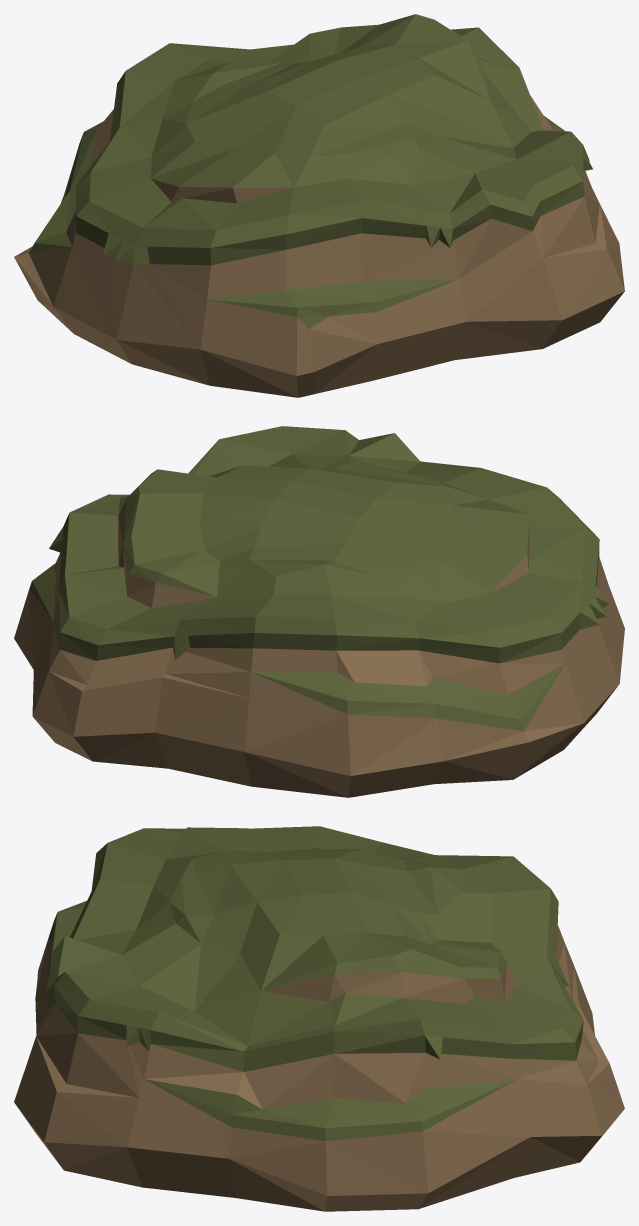
The model's file is dirt_mound.glb.
3 views of the same model, one above another, from view 1: azimuth 30°, elevation 25°; view 2: azimuth 150°, elevation 25°; view 3: azimuth 270°, elevation 25° (orthographic). The views are drawn at different scales.
Parts seen in each view (by area): view 1: SM_Env_DirtMound_01; view 2: SM_Env_DirtMound_01; view 3: SM_Env_DirtMound_01.
Boxes of the visible parts, x1=… form: SM_Env_DirtMound_01: x1=14, y1=14, x2=624, y2=397; SM_Env_DirtMound_01: x1=14, y1=426, x2=624, y2=797; SM_Env_DirtMound_01: x1=14, y1=826, x2=624, y2=1211.
Size of the model in its own units: 791 by 280 by 736.
Materials: 1 (1 with a texture image).
